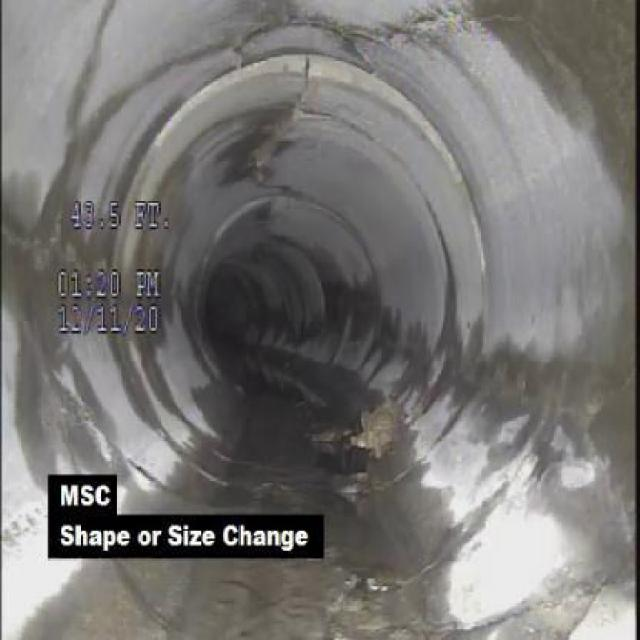Crack: (456, 575, 616, 634), (229, 14, 391, 49), (397, 12, 509, 38), (0, 220, 49, 260), (1, 514, 44, 546)
Debris: (314, 384, 417, 462)
Joint offset: (309, 54, 400, 108), (202, 52, 289, 91)
